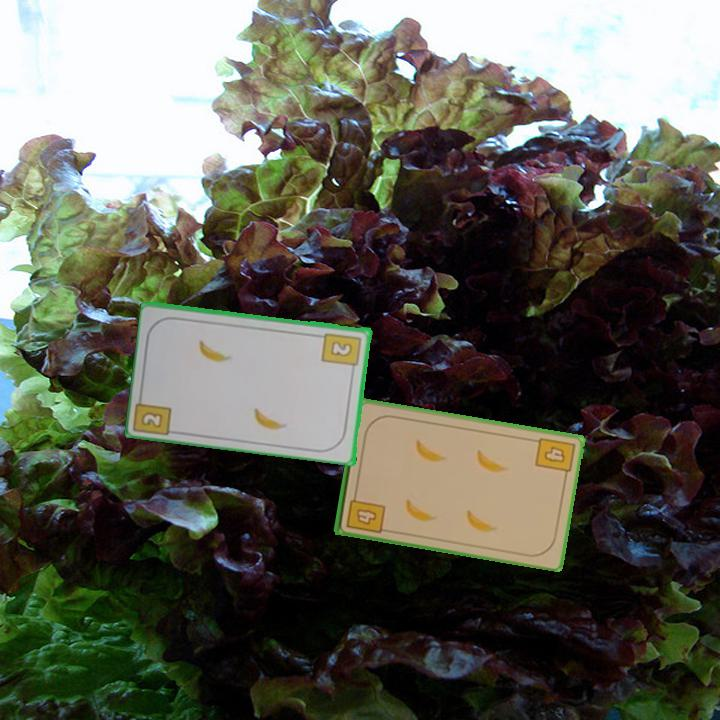2b: (319, 329, 364, 375), (132, 389, 175, 437)
4b: (342, 487, 388, 536), (532, 434, 578, 481)
